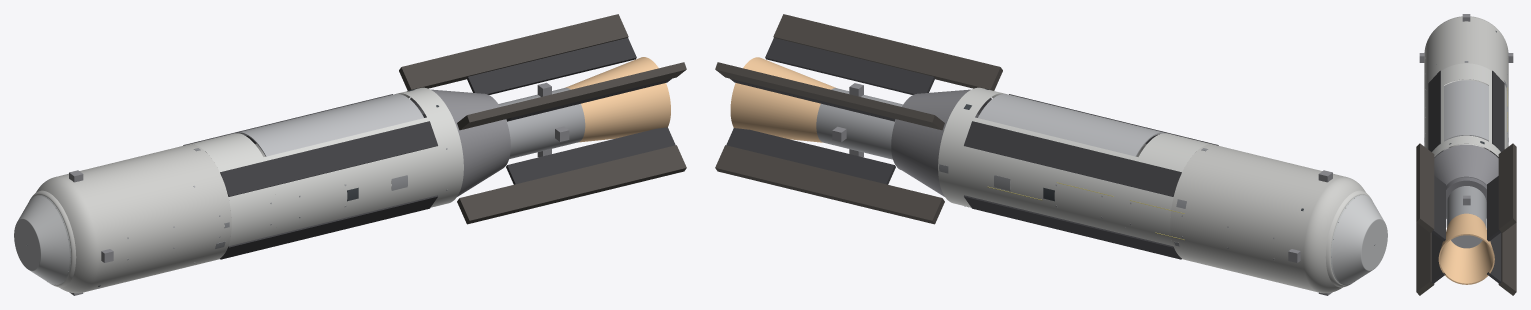
File: wayfarer_I4_in_out_6cad9a54.glb
3 views of the same model, side by side, from view 1: azimuth 30°, elevation 25°; view 2: azimuth 150°, elevation 25°; view 3: azimuth 270°, elevation 25° (orthographic). The views are drawn at different scales.
Visible parts, largest first — view 1: Exterior, crown closed/hull_armor, Exterior, crown closed/radiator, Exterior, crown closed/hotfin, Exterior, crown closed/hull_skin, Exterior, crown closed/door, Exterior, crown closed/nozzle, Exterior, crown closed/thrust_cone, Exterior, crown closed/crown_tambour, Exterior, crown closed/reactor, Exterior, crown closed/rcs, Exterior, crown closed/crown_brow; view 2: Exterior, crown closed/hull_armor, Exterior, crown closed/radiator, Exterior, crown closed/hotfin, Exterior, crown closed/hull_skin, Exterior, crown closed/door, Exterior, crown closed/nozzle, Exterior, crown closed/thrust_cone, Exterior, crown closed/crown_tambour, Exterior, crown closed/reactor, Exterior, crown closed/rcs, Exterior, crown closed/crown_brow; view 3: Exterior, crown closed/hotfin, Exterior, crown closed/radiator, Exterior, crown closed/hull_armor, Exterior, crown closed/nozzle, Exterior, crown closed/door, Exterior, crown closed/hull_skin, Exterior, crown closed/thrust_cone, Exterior, crown closed/reactor, Exterior, crown closed/shield, Exterior, crown closed/rcs.
Part boxes in pixels (<box>): Exterior, crown closed/hull_armor: <box>36,144,231,293</box>; Exterior, crown closed/radiator: <box>183,38,675,259</box>; Exterior, crown closed/hotfin: <box>399,14,686,224</box>; Exterior, crown closed/hull_skin: <box>190,87,463,259</box>; Exterior, crown closed/door: <box>235,94,423,156</box>; Exterior, crown closed/nozzle: <box>565,57,670,142</box>; Exterior, crown closed/thrust_cone: <box>410,89,510,196</box>; Exterior, crown closed/crown_tambour: <box>14,195,70,285</box>; Exterior, crown closed/reactor: <box>498,87,585,159</box>; Exterior, crown closed/rcs: <box>69,82,569,295</box>; Exterior, crown closed/crown_brow: <box>29,190,76,287</box>; Exterior, crown closed/hull_armor: <box>1170,144,1365,293</box>; Exterior, crown closed/radiator: <box>726,38,1218,259</box>; Exterior, crown closed/hotfin: <box>715,14,1002,224</box>; Exterior, crown closed/hull_skin: <box>938,87,1211,259</box>; Exterior, crown closed/door: <box>978,94,1166,156</box>; Exterior, crown closed/nozzle: <box>730,57,836,142</box>; Exterior, crown closed/thrust_cone: <box>891,89,991,196</box>; Exterior, crown closed/crown_tambour: <box>1331,195,1387,285</box>; Exterior, crown closed/reactor: <box>816,88,902,159</box>; Exterior, crown closed/rcs: <box>832,83,1332,295</box>; Exterior, crown closed/crown_brow: <box>1325,190,1372,287</box>; Exterior, crown closed/hotfin: <box>1416,143,1516,295</box>; Exterior, crown closed/radiator: <box>1428,70,1504,283</box>; Exterior, crown closed/hull_armor: <box>1424,16,1508,97</box>; Exterior, crown closed/nozzle: <box>1438,213,1494,284</box>; Exterior, crown closed/door: <box>1444,80,1488,141</box>; Exterior, crown closed/hull_skin: <box>1424,63,1508,156</box>; Exterior, crown closed/thrust_cone: <box>1434,144,1498,218</box>; Exterior, crown closed/reactor: <box>1447,186,1486,248</box>; Exterior, crown closed/shield: <box>1446,177,1486,218</box>; Exterior, crown closed/rcs: <box>1419,14,1513,227</box>.
Bounding box in the file's own units: 54.61 × 10 × 10.73.
